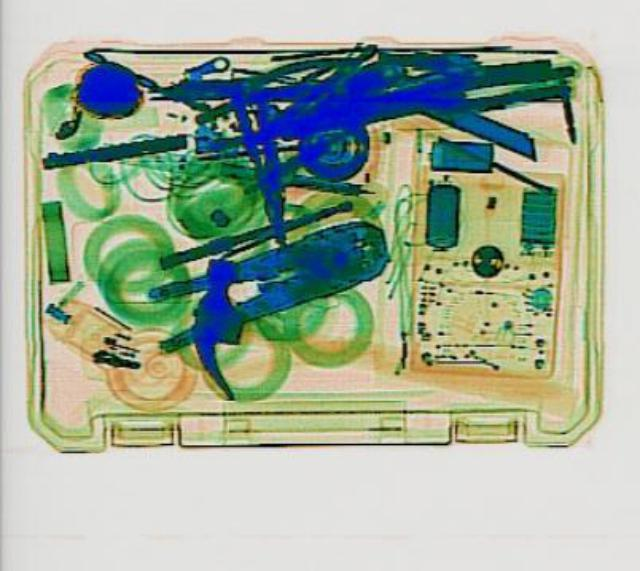Pliers: (131, 211, 403, 352), (186, 55, 382, 152), (226, 79, 298, 239)
